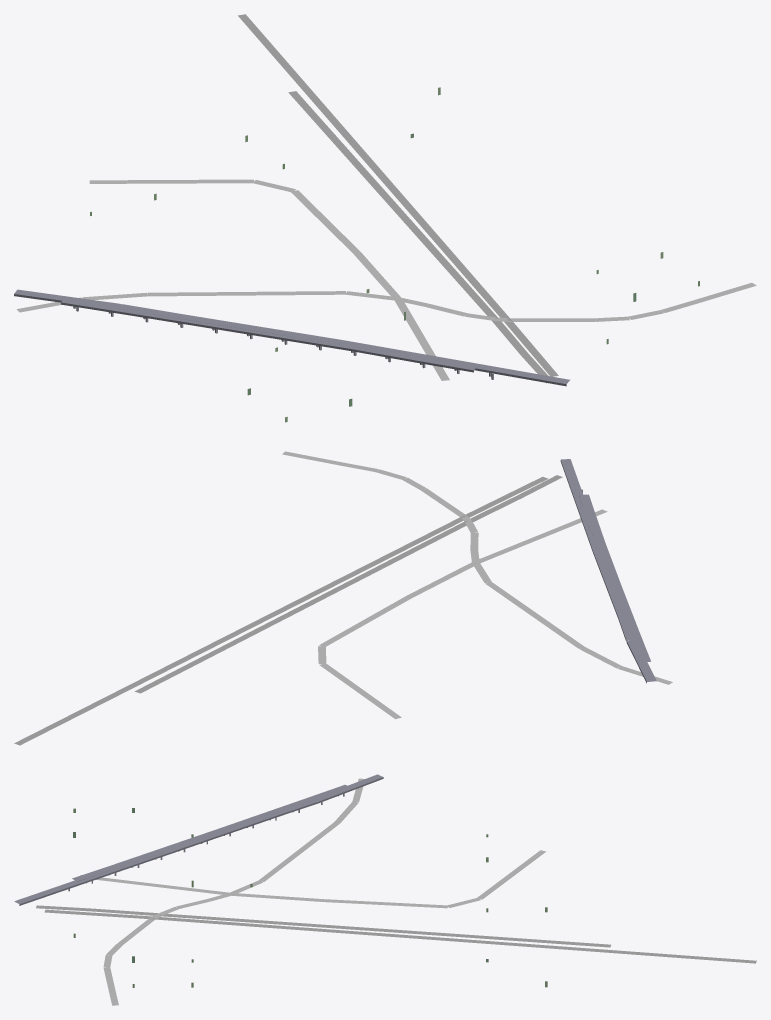
3 renders of one model, top to bottom at view 1: azimuth 30°, elevation 25°; view 2: azimuth 150°, elevation 25°; view 3: azimuth 270°, elevation 25°, orthographic. The views are drawn at different scales.
Bounding box in the file's own units: 544 × 9.36 × 756.
